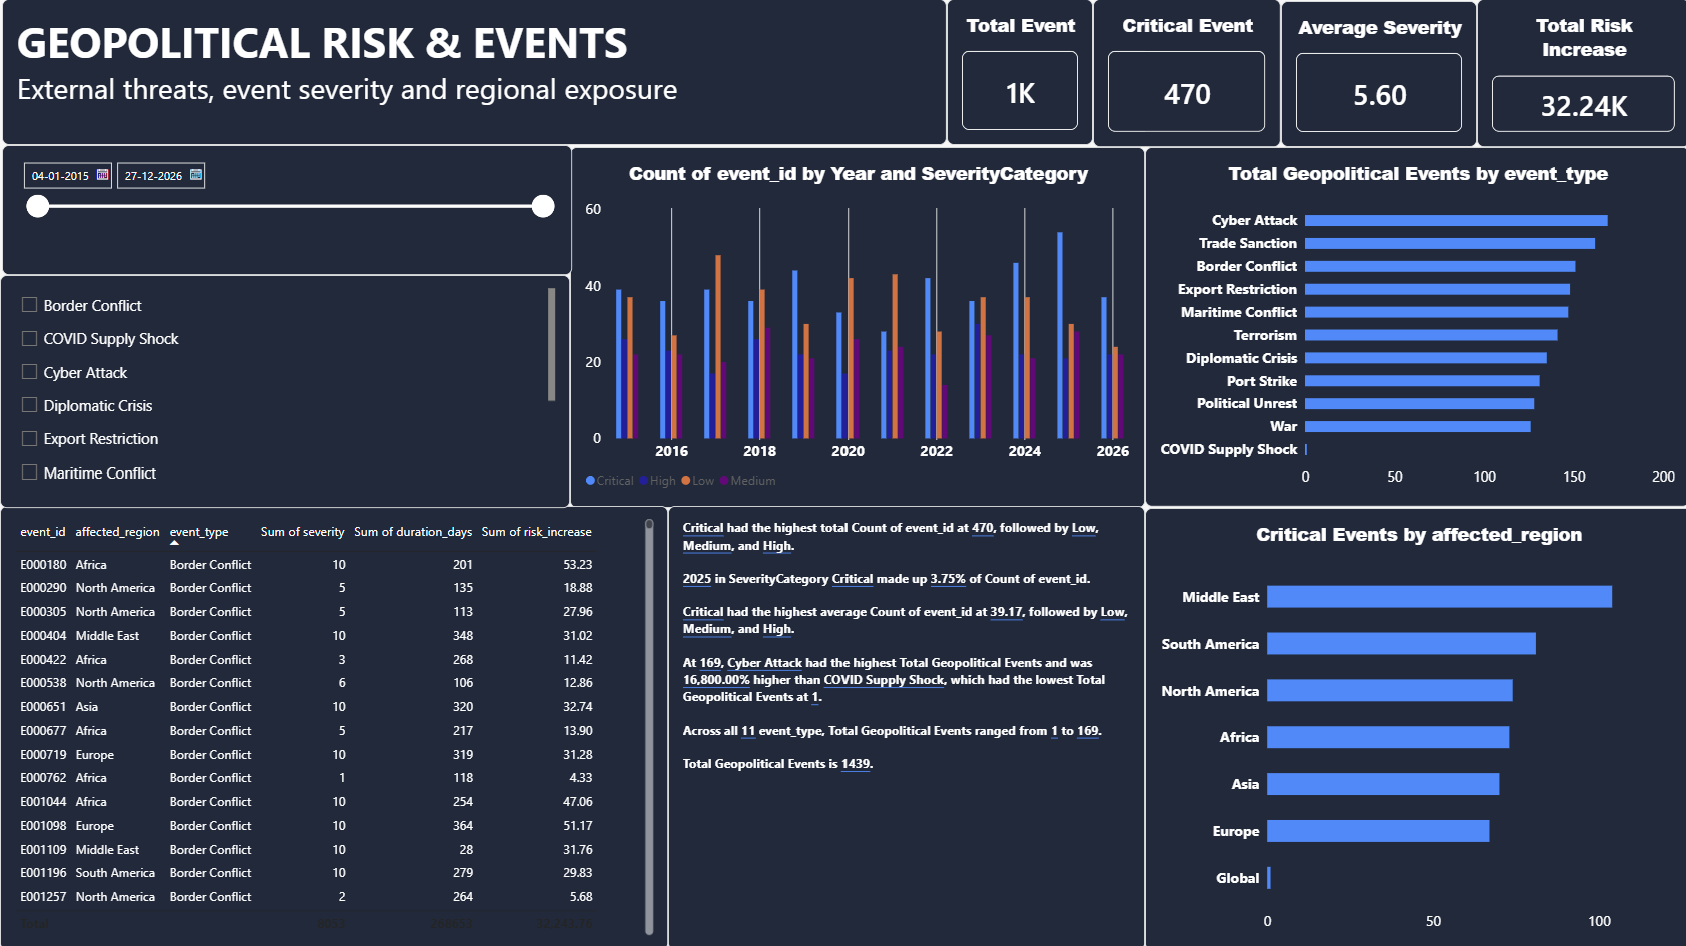

The dashboard page shown, as its layout file describes it:
{"tool":"powerbi","page":{"name":"Geopolitical Risk & External Events","canvas":[1920,1080],"ordinal":3},"visuals":[{"type":"cardVisual","title":"Total Event","fields":{"Data":["_Measures.Total Geopolitical Events"]},"box":[1076,0,166.1,166.1],"z":0},{"type":"cardVisual","title":"Critical Event","fields":{"Data":["_Measures.Critical Events"]},"box":[1241.2,0,213.6,168.5],"z":1000},{"type":"cardVisual","title":"Average Severity","fields":{"Data":["_Measures.Average Event Severity"]},"box":[1454.8,2.4,223.1,166.1],"z":2000},{"type":"cardVisual","title":"Total Risk Increase","fields":{"Data":["Sum(fact_geopolitical_event.risk_increase)"]},"box":[1677.9,0,242.1,168.5],"z":3000},{"type":"clusteredColumnChart","fields":{"Category":["weekly_timeline.Year"],"Series":["fact_geopolitical_event.SeverityCategory"],"Y":["CountNonNull(fact_geopolitical_event.event_id)"]},"box":[648.3,168.3,652.9,409.5],"z":4000},{"type":"clusteredBarChart","fields":{"Category":["fact_geopolitical_event.event_type"],"Y":["_Measures.Total Geopolitical Events"]},"box":[1300.6,168.5,619.4,408.2],"z":5000},{"type":"clusteredBarChart","fields":{"Category":["fact_geopolitical_event.affected_region"],"Y":["_Measures.Critical Events"]},"box":[1300.6,576.7,621.8,503.1],"z":6000},{"type":"tableEx","fields":{"Values":["fact_geopolitical_event.event_id","fact_geopolitical_event.affected_region","fact_geopolitical_event.event_type","Sum(fact_geopolitical_event.severity)","Sum(fact_geopolitical_event.duration_days)","Sum(fact_geopolitical_event.risk_increase)"]},"box":[0,575.5,759.8,505],"z":7000},{"type":"textbox","box":[759.8,575.5,541.4,505],"z":8000},{"type":"slicer","fields":{"Values":["weekly_timeline.Date"]},"box":[2.3,166.1,648.3,147.9],"z":9000},{"type":"slicer","fields":{"Values":["fact_geopolitical_event.event_type"]},"box":[0,313.9,648.3,263.9],"z":10000},{"type":"textbox","box":[2.3,0,1073.7,166.1],"z":11000}]}

Visuals, with their boxes in screenshot pixels (x1, y1, x2, y2), scaled from the page's 1920x1080 canvas onto the 1686x946 screenshot:
"Total Event" cardVisual: l=945, t=0, r=1091, b=145
"Critical Event" cardVisual: l=1090, t=0, r=1277, b=148
"Average Severity" cardVisual: l=1277, t=2, r=1473, b=148
"Total Risk Increase" cardVisual: l=1473, t=0, r=1685, b=148
clusteredColumnChart - weekly_timeline.Year x fact_geopolitical_event.SeverityCategory: l=569, t=147, r=1143, b=506
clusteredBarChart - fact_geopolitical_event.event_type x _Measures.Total Geopolitical Events: l=1142, t=148, r=1685, b=505
clusteredBarChart - fact_geopolitical_event.affected_region x _Measures.Critical Events: l=1142, t=505, r=1685, b=945
tableEx - fact_geopolitical_event.event_id x fact_geopolitical_event.affected_region: l=0, t=504, r=667, b=945
textbox: l=667, t=504, r=1143, b=945
slicer - weekly_timeline.Date: l=2, t=145, r=571, b=275
slicer - fact_geopolitical_event.event_type: l=0, t=275, r=569, b=506
textbox: l=2, t=0, r=945, b=145
